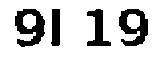1: (82, 4, 113, 51)
9: (8, 5, 47, 51), (116, 5, 151, 50)
I: (48, 4, 69, 52)
